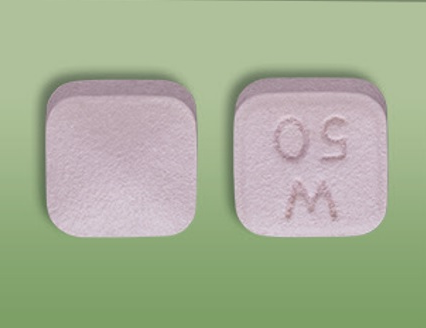Square: (233, 76, 386, 238), (44, 81, 198, 239)
